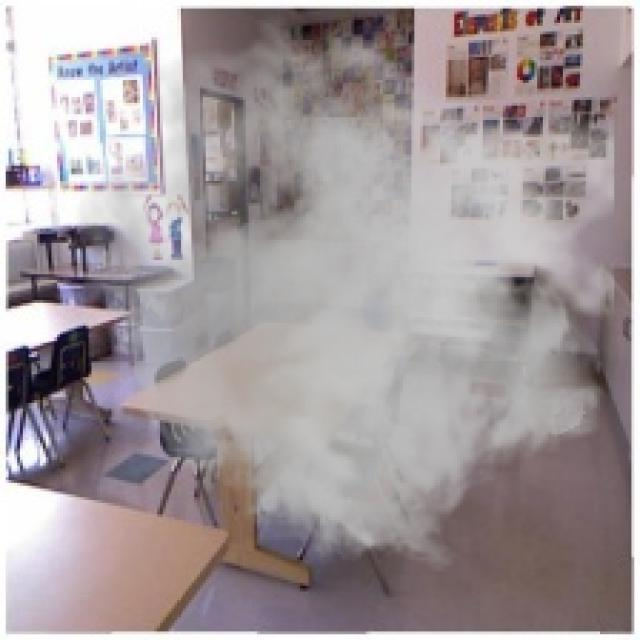Smoke: (75, 12, 614, 574)
